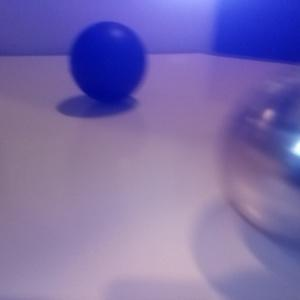alive_ball: (216, 69, 300, 250)
dead_ball: (68, 20, 146, 103)
